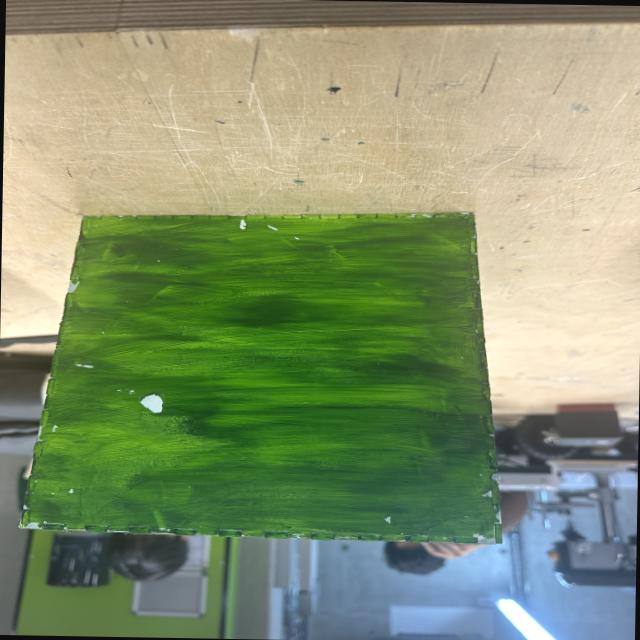green_bin: (16, 202, 511, 546)
